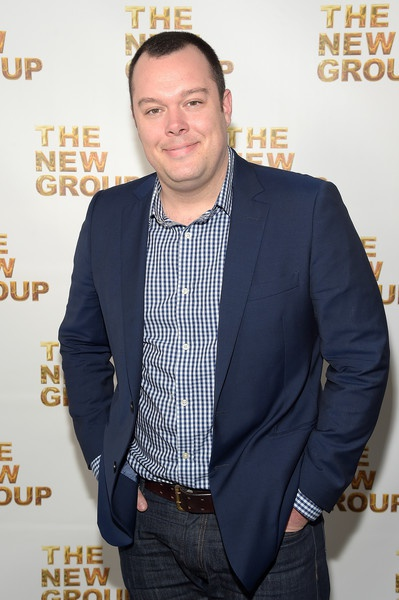bad: (115, 68, 223, 175)
